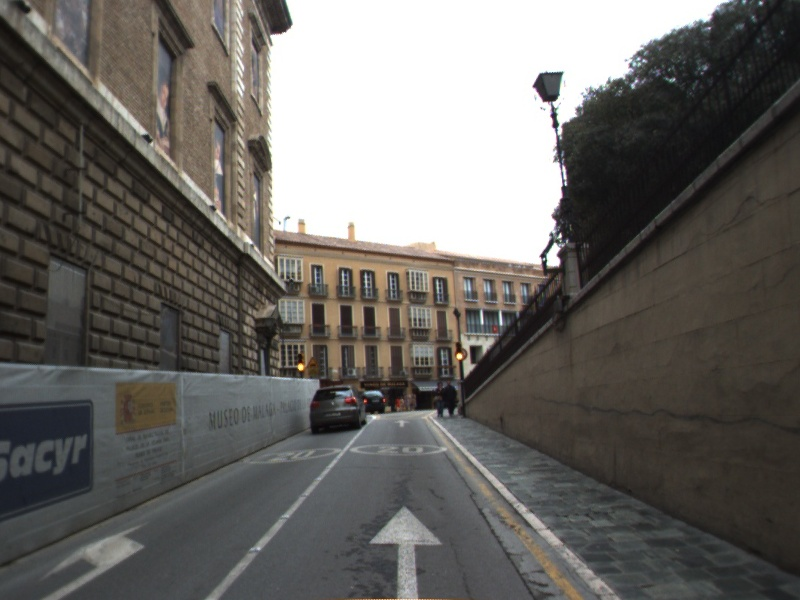LEFT: (32, 516, 156, 600)
STRAIGHT: (365, 502, 448, 600), (393, 418, 412, 429)
